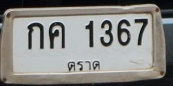txt01: (26, 21, 45, 50)
txt03: (47, 20, 66, 51)
